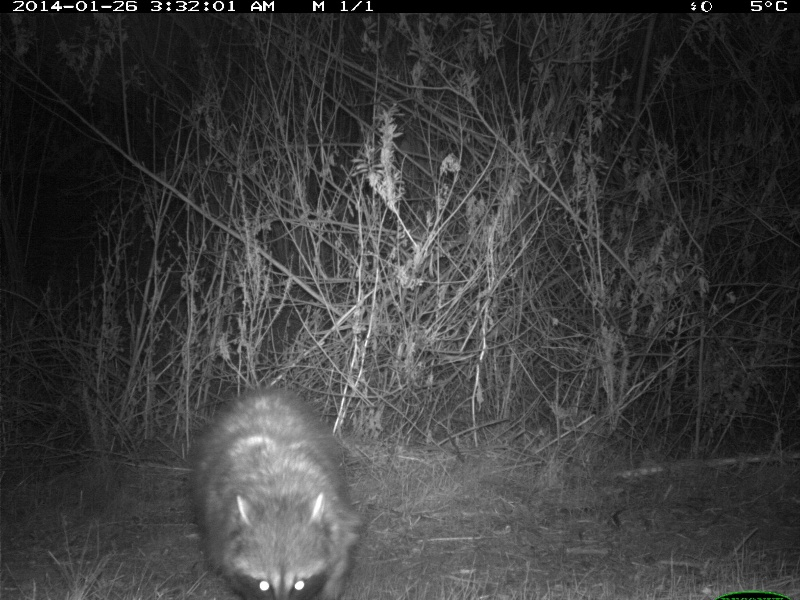raccoon: (185, 390, 365, 596)
